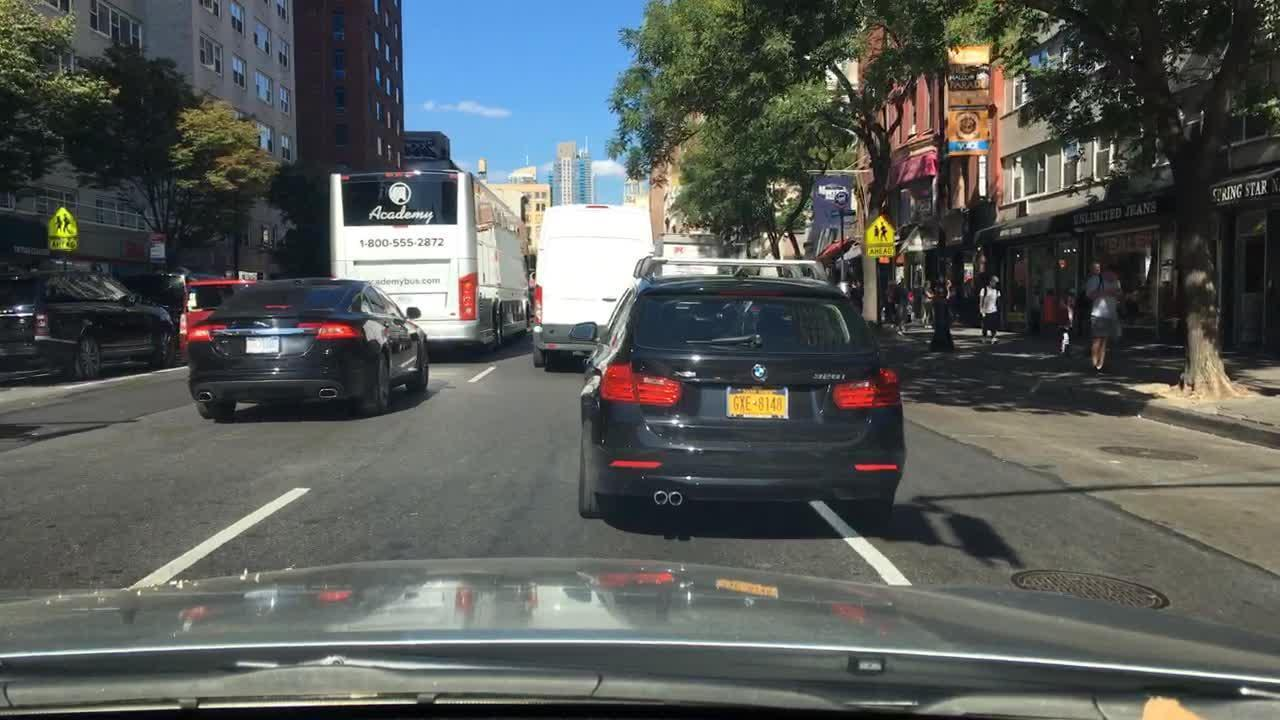bmw: (746, 355, 776, 388)
